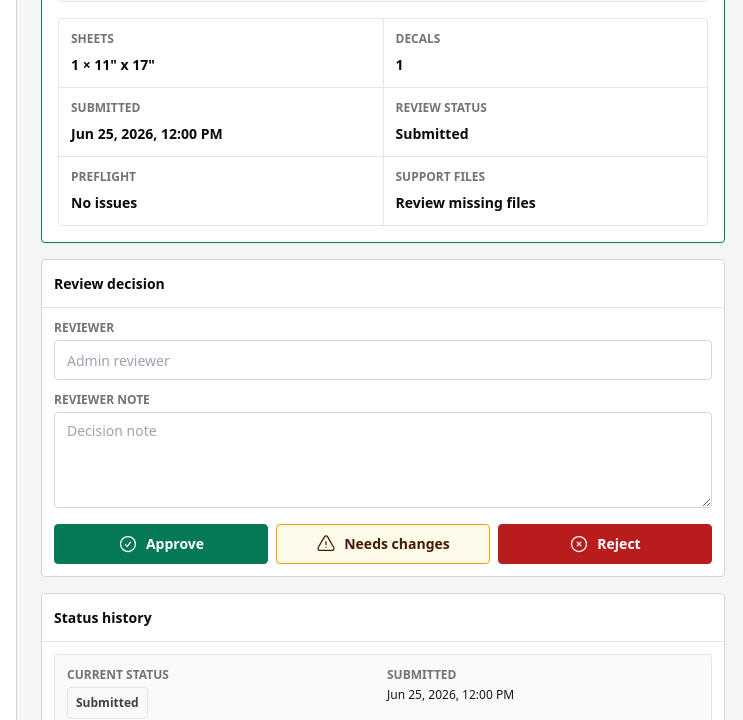
Test case: AdminReviewScreen › shows actionable review update errors and keeps entered notes
(page scrolled)
Type "QA" into the field with placeholder "Admin reviewer" at coordinates (383, 360), box x1=54 y1=340 x2=712 y2=380
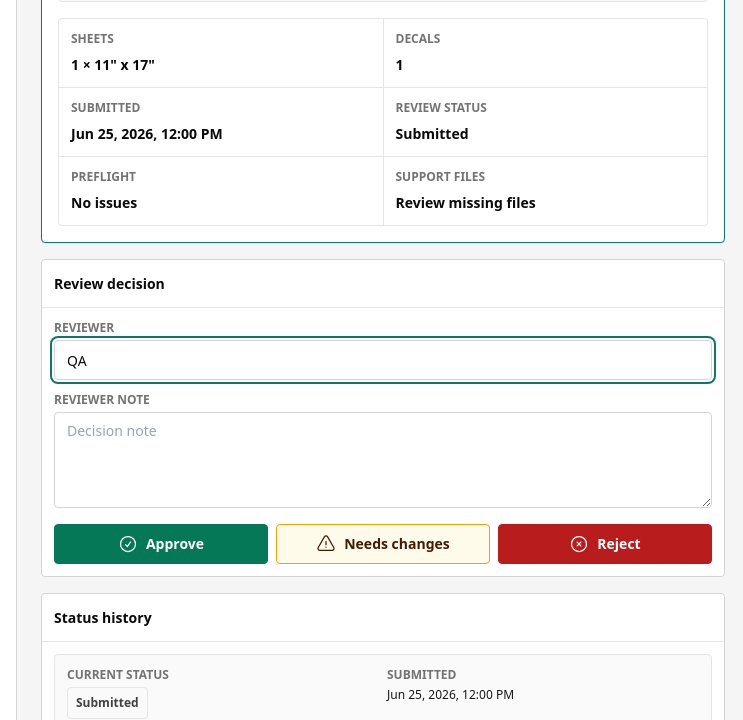
Type "Please shorten this note." into the text box with placeholder "Decision note" at coordinates (383, 460), box x1=54 y1=412 x2=712 y2=508
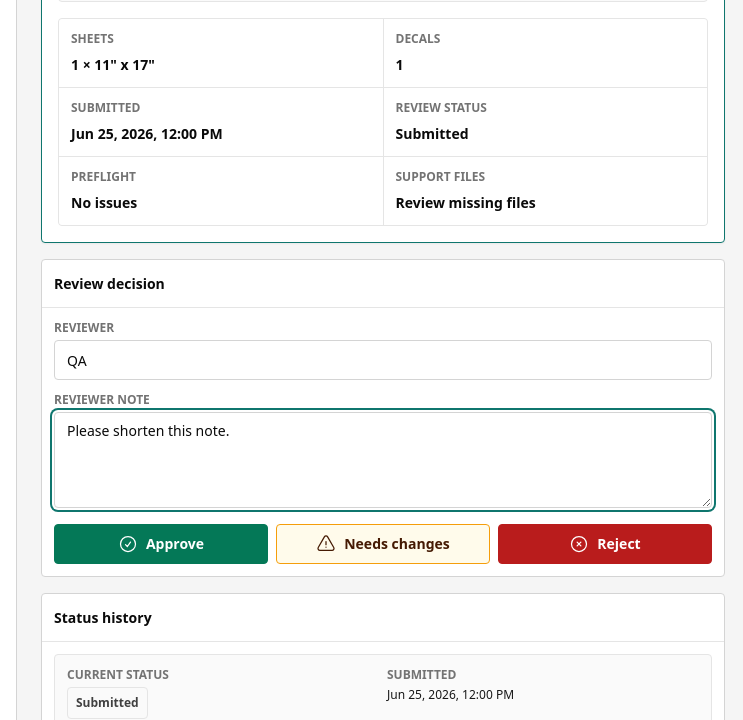
Click the button "Reject" at coordinates (605, 544), box x1=498 y1=524 x2=712 y2=564
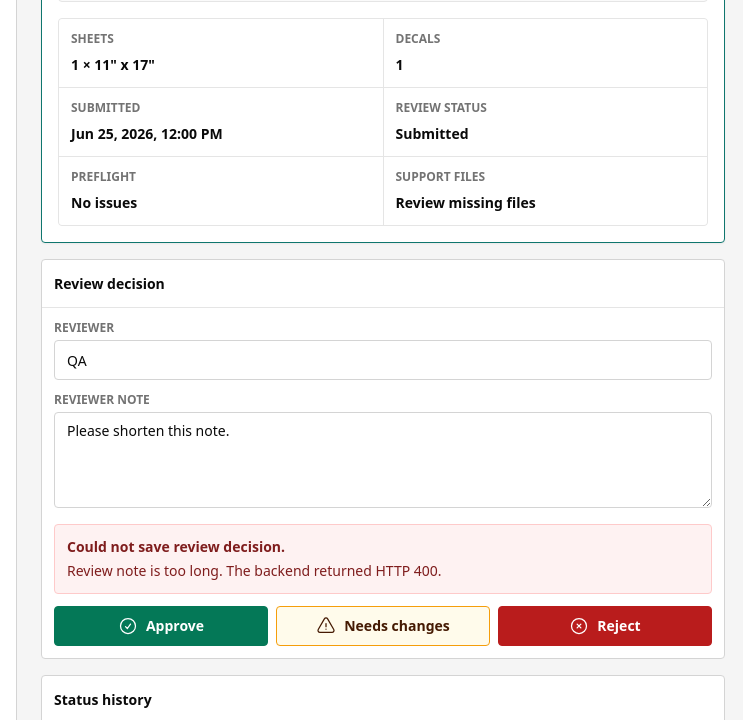
Expected: the text "Could not save review decision." is shown, x1=67 y1=537 x2=285 y2=556
Expected: the text "Review note is too long. The backend returned HTTP 400." is shown, x1=67 y1=561 x2=442 y2=580
